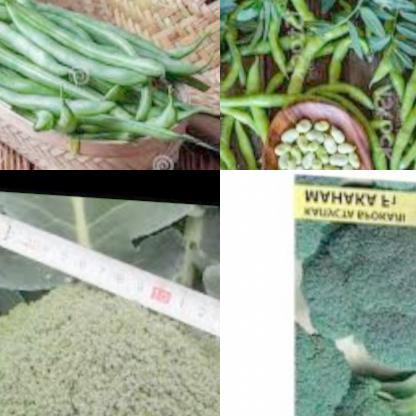beans: (0, 0, 220, 140), (319, 0, 416, 170), (220, 0, 276, 170), (258, 0, 328, 99), (264, 103, 357, 170)
broccoli: (0, 263, 220, 416), (289, 194, 416, 379), (286, 329, 345, 416)
